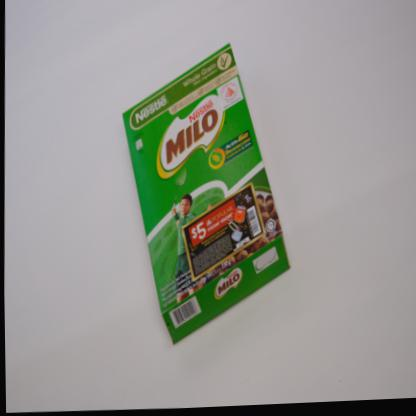cereal box: (111, 31, 299, 358)
